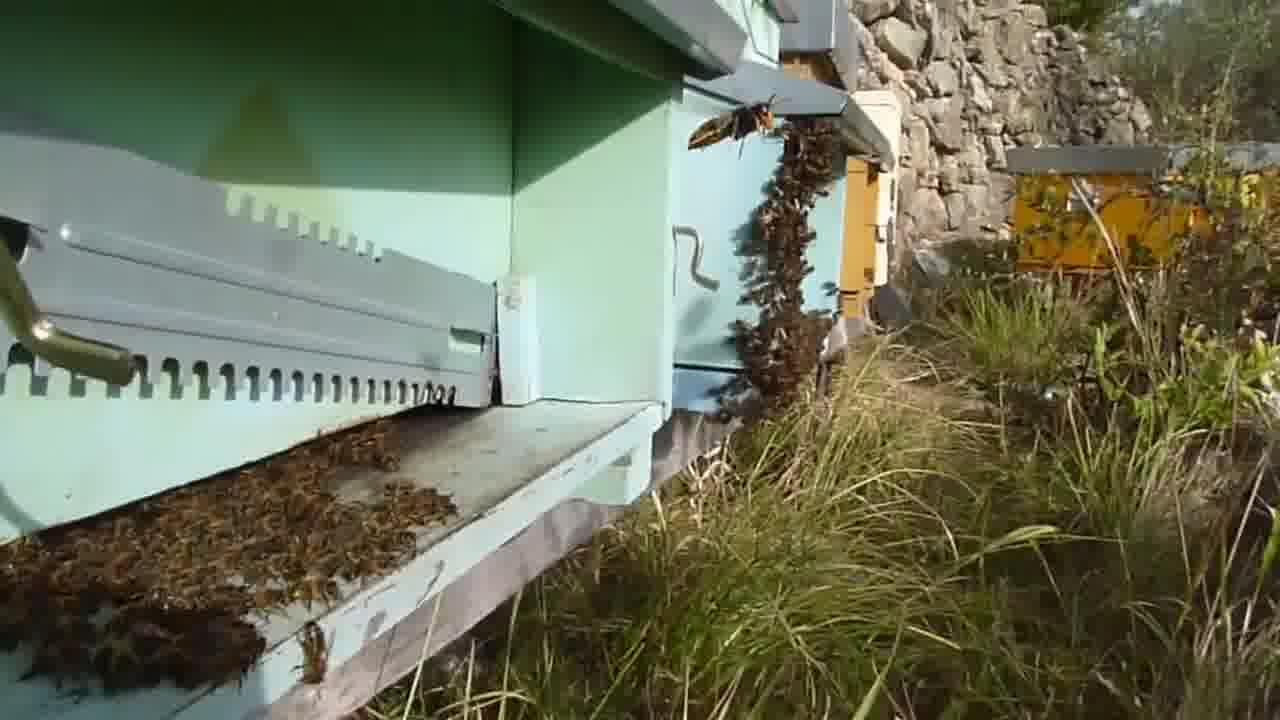bee: (1, 550, 262, 691), (260, 479, 408, 605), (93, 490, 260, 554), (731, 292, 811, 380), (732, 197, 813, 283), (765, 114, 845, 197), (294, 616, 342, 689), (333, 424, 407, 470), (399, 483, 468, 527)
hornet: (684, 95, 779, 166)
